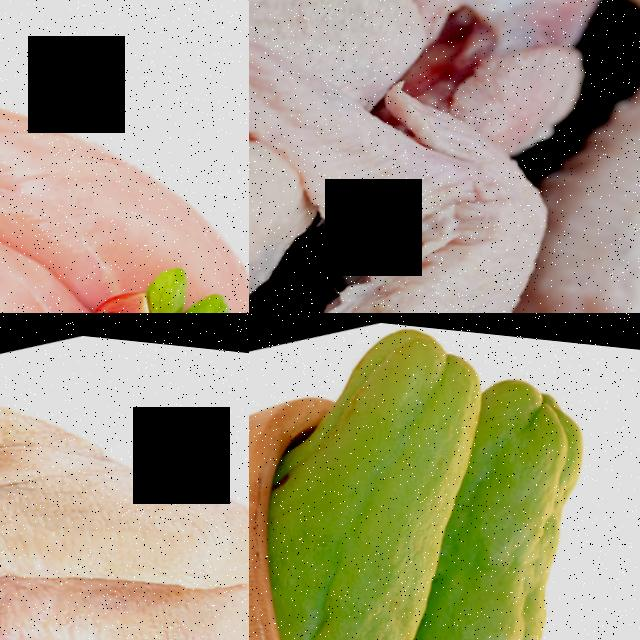chayote: (249, 313, 501, 634), (457, 327, 640, 640)
chicken breast: (0, 0, 249, 313), (0, 134, 140, 313)
chicken wing: (0, 313, 249, 640), (249, 108, 640, 313)
